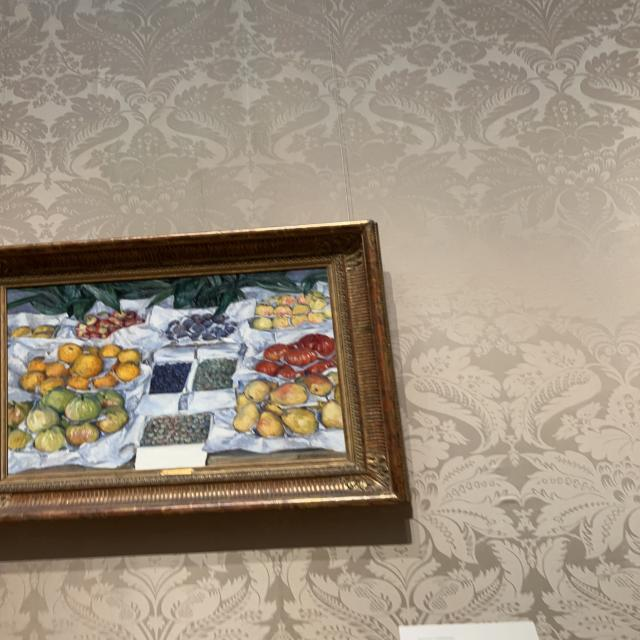fruits: (8, 272, 343, 474)
